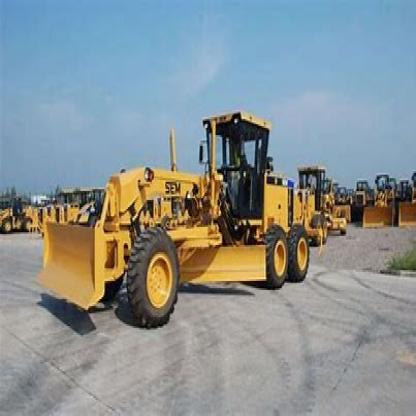bull_dozer/loader/grader: (37, 103, 324, 331)
